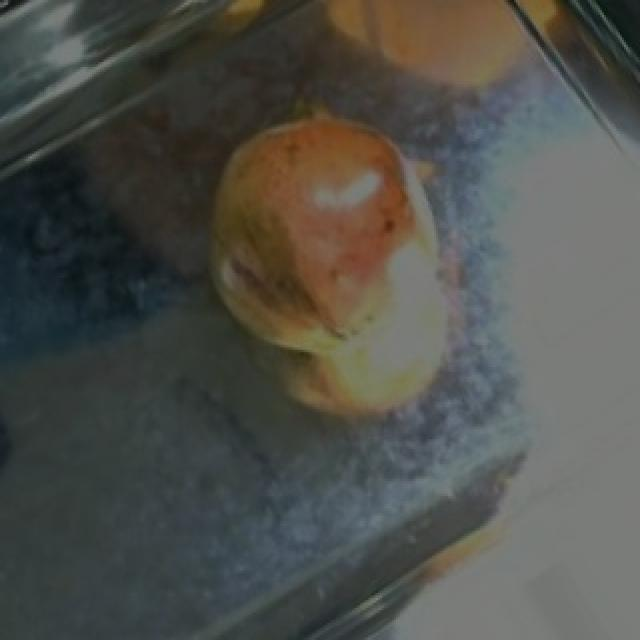fruit: (174, 84, 442, 367)
